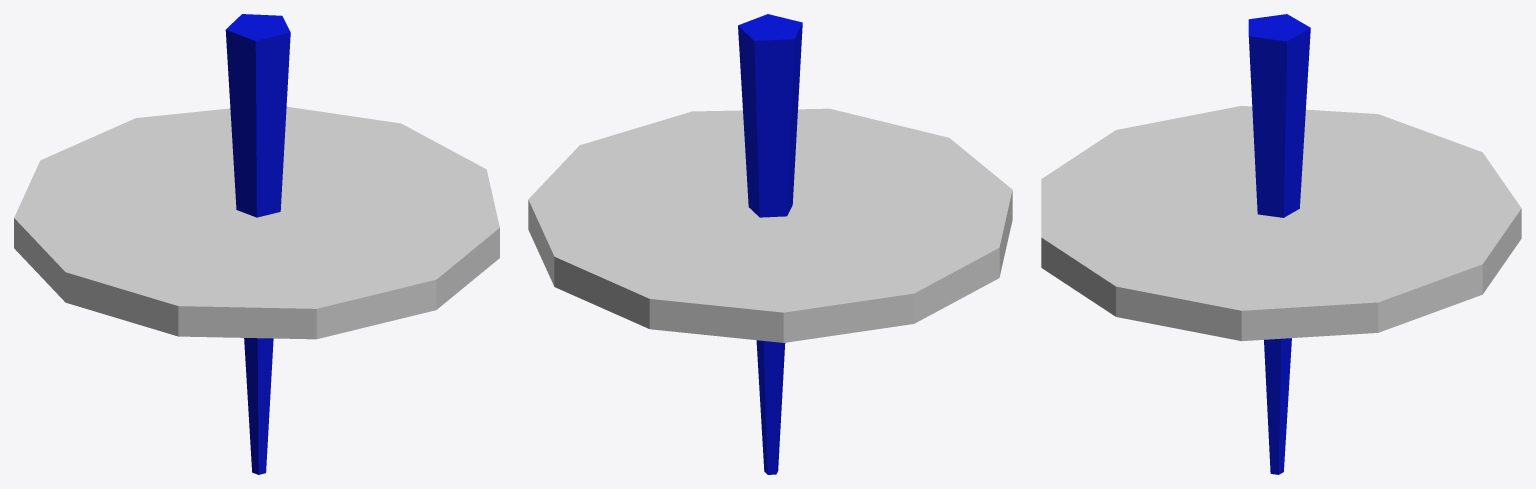
Rendered from Human.gltf.
3 views of the same model, side by side, from view 1: azimuth 30°, elevation 25°; view 2: azimuth 150°, elevation 25°; view 3: azimuth 270°, elevation 25° (orthographic).
Parts seen in each view (by area): view 1: Cone; view 2: Cone; view 3: Cone.
Part boxes in pixels (x1,y1,x2,y2): Cone: (14,14,499,474); Cone: (528,14,1012,474); Cone: (1041,14,1521,474).
Bounding box in the file's own units: 1.98 × 2 × 1.96.
